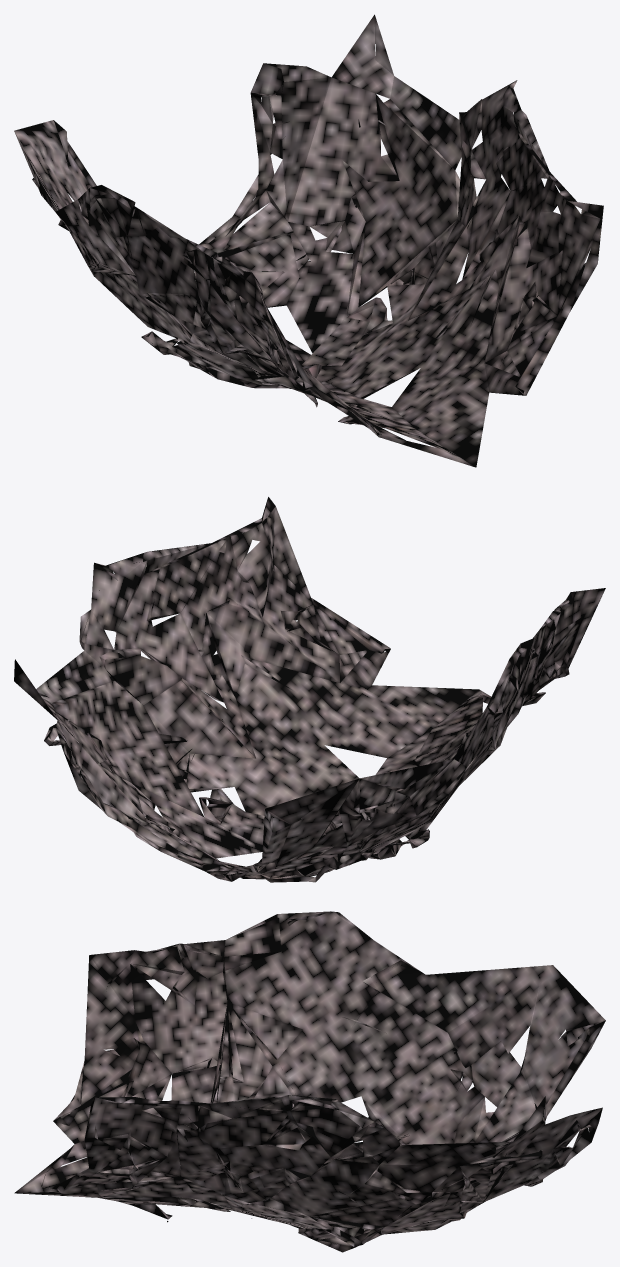
File: vampire_chestplate_LOD3.glb
The picture shows the model from 3 angles, top to bottom: view 1: azimuth 30°, elevation 25°; view 2: azimuth 150°, elevation 25°; view 3: azimuth 270°, elevation 25°; orthographic projection. The views are drawn at different scales.
Parts seen in each view (by area): view 1: vampire_chestplate_LOD3; view 2: vampire_chestplate_LOD3; view 3: vampire_chestplate_LOD3.
Part boxes in pixels (<box>): vampire_chestplate_LOD3: <box>14,14,603,467</box>; vampire_chestplate_LOD3: <box>14,497,605,882</box>; vampire_chestplate_LOD3: <box>14,911,605,1252</box>.
Size of the model in its own units: 0.5776 by 0.3214 by 0.7504.
Materials: 1 (1 with a texture image).
